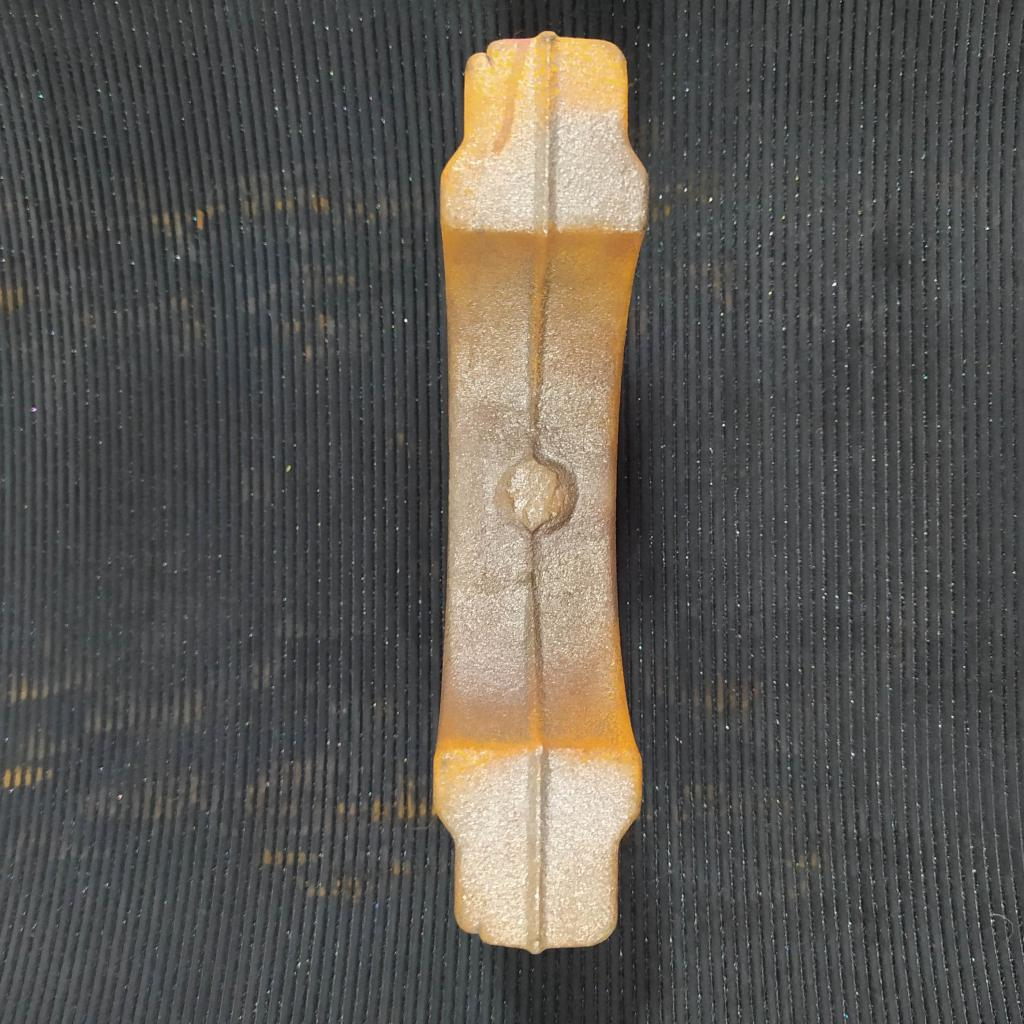rechupe: (475, 42, 500, 73), (465, 919, 488, 944)
